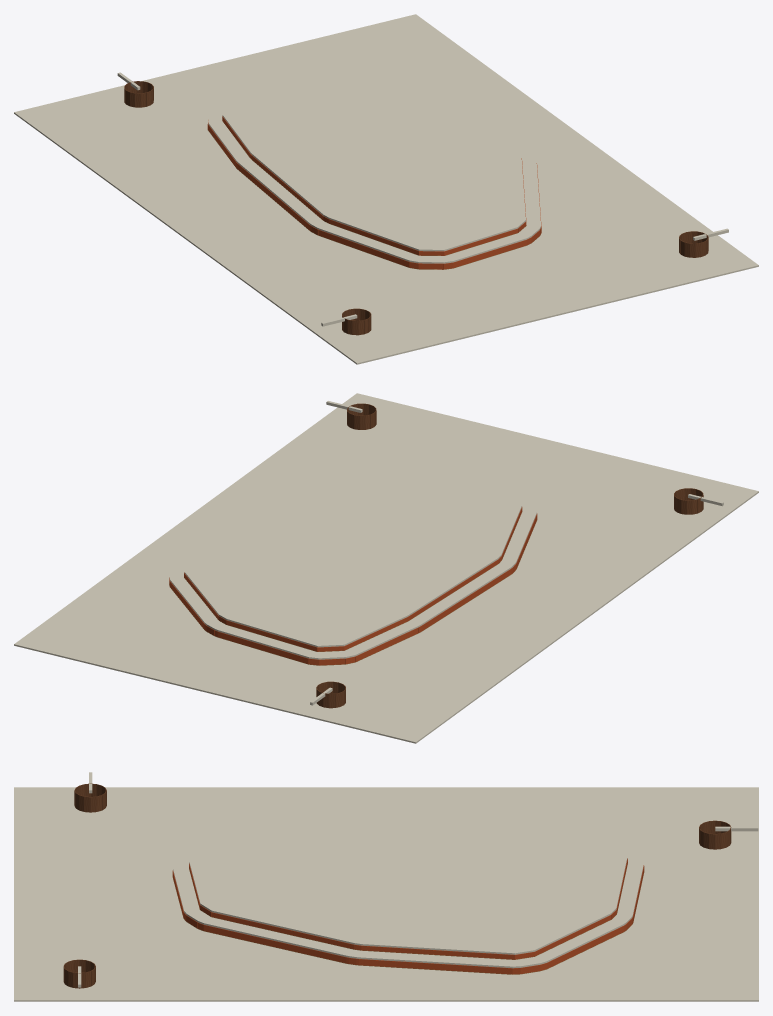
Rendered from AST-AQU-012.glb.
3 renders of one model, top to bottom at view 1: azimuth 30°, elevation 25°; view 2: azimuth 150°, elevation 25°; view 3: azimuth 270°, elevation 25°, orthographic. The views are drawn at different scales.
Parts seen in each view (by area): view 1: AQU_Ceiling_ivory_enamel, AQU_Ceiling_terracotta, AQU_Ceiling_warm_walnut, AQU_Ceiling_champagne_metal; view 2: AQU_Ceiling_ivory_enamel, AQU_Ceiling_terracotta, AQU_Ceiling_warm_walnut, AQU_Ceiling_champagne_metal; view 3: AQU_Ceiling_ivory_enamel, AQU_Ceiling_terracotta, AQU_Ceiling_warm_walnut, AQU_Ceiling_champagne_metal.
Part boxes in pixels (<box>): AQU_Ceiling_ivory_enamel: <box>14,14,758,364</box>; AQU_Ceiling_terracotta: <box>207,116,541,269</box>; AQU_Ceiling_warm_walnut: <box>124,81,708,335</box>; AQU_Ceiling_champagne_metal: <box>208,121,541,269</box>; AQU_Ceiling_ivory_enamel: <box>14,393,758,743</box>; AQU_Ceiling_terracotta: <box>169,507,537,665</box>; AQU_Ceiling_warm_walnut: <box>316,403,703,708</box>; AQU_Ceiling_champagne_metal: <box>169,511,537,665</box>; AQU_Ceiling_ivory_enamel: <box>14,772,758,1001</box>; AQU_Ceiling_terracotta: <box>172,858,644,974</box>; AQU_Ceiling_warm_walnut: <box>63,783,731,988</box>; AQU_Ceiling_champagne_metal: <box>172,863,644,974</box>.
Size of the model in its own units: 46 by 1.86 by 68.
Materials: 5 (4 with a texture image).
